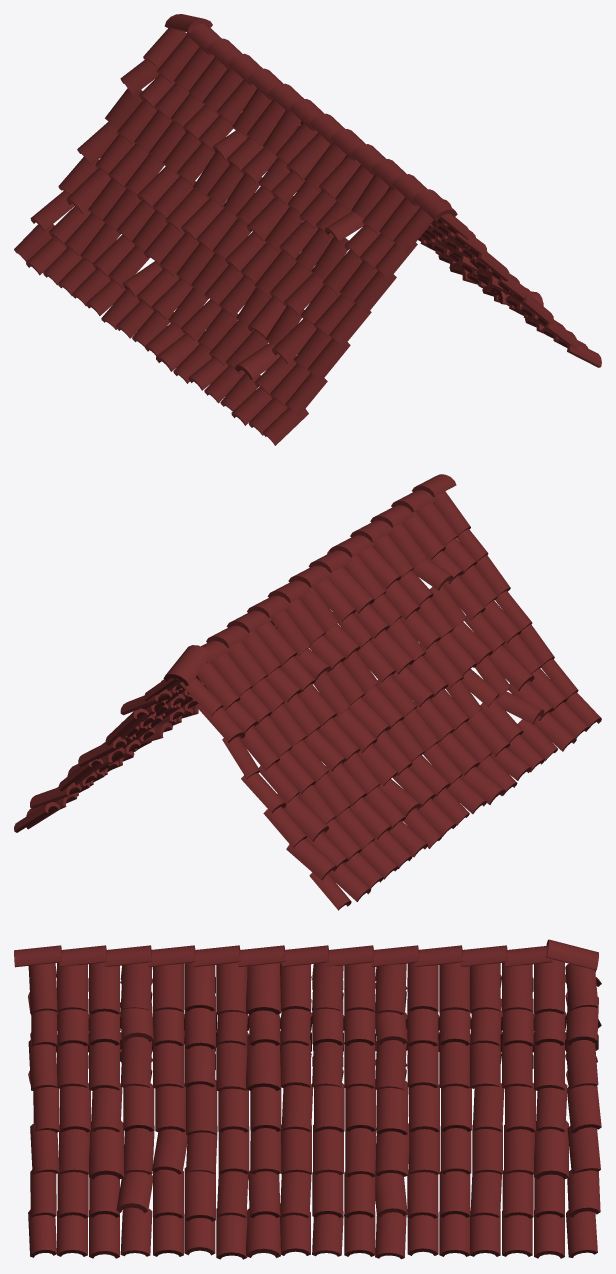
The model's file is SM_rooftiles_house.fbx.
The picture shows the model from 3 angles, top to bottom: view 1: azimuth 30°, elevation 25°; view 2: azimuth 150°, elevation 25°; view 3: azimuth 270°, elevation 25°; orthographic projection. The views are drawn at different scales.
Parts seen in each view (by area): view 1: Object342761; view 2: Object342761; view 3: Object342761.
Boxes of the visible parts, bbox=[...] form: Object342761: bbox=[14, 14, 601, 445]; Object342761: bbox=[14, 474, 601, 910]; Object342761: bbox=[14, 939, 601, 1259].
Size of the model in its own units: 230 by 139 by 318.
